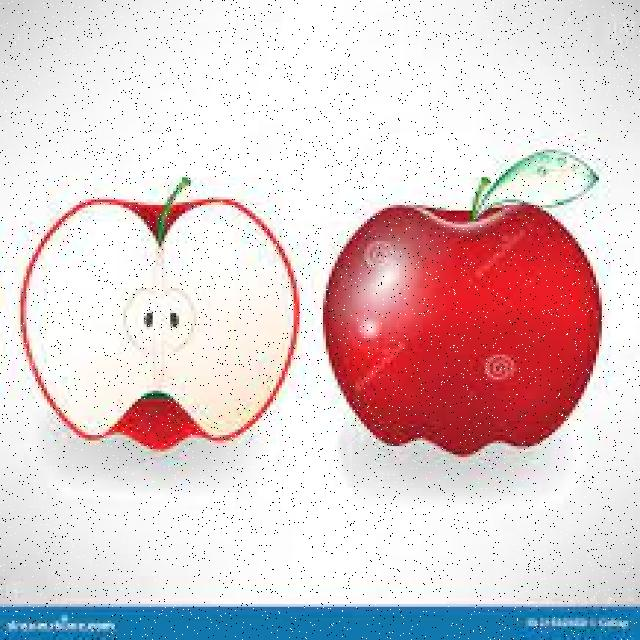Apple: (20, 196, 297, 444), (318, 205, 598, 447)
